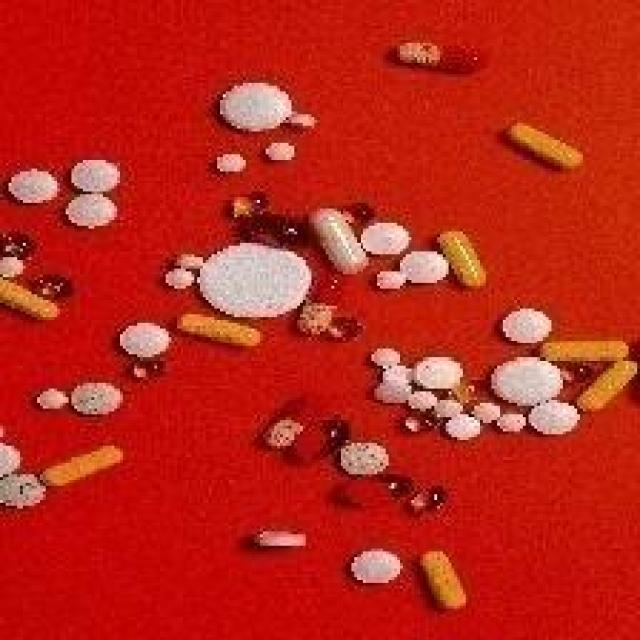Medicine: (366, 306, 638, 487), (201, 190, 505, 293), (0, 366, 176, 516), (163, 230, 363, 359), (272, 405, 448, 524), (2, 146, 136, 238), (0, 218, 93, 324), (214, 72, 308, 168), (406, 542, 492, 633), (385, 28, 495, 98), (492, 108, 592, 179), (258, 507, 317, 555), (112, 317, 166, 362), (349, 549, 403, 589)
